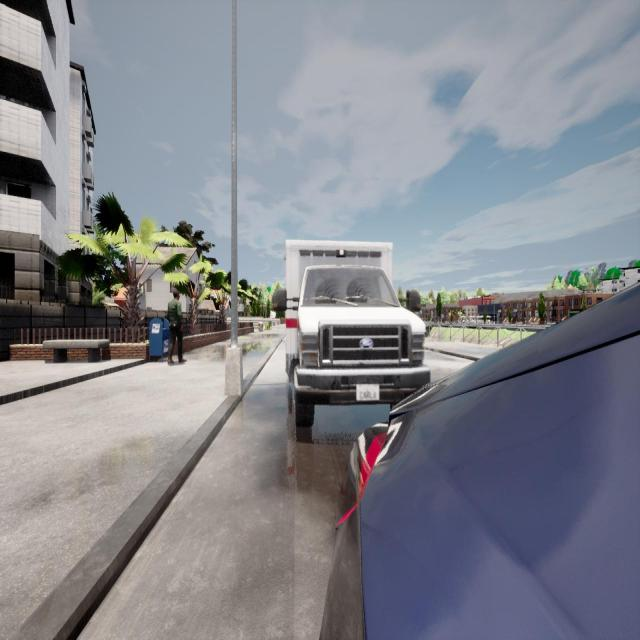Pedestrian: (167, 290, 187, 364)
Vehicle: (317, 280, 640, 640), (286, 243, 430, 431)
